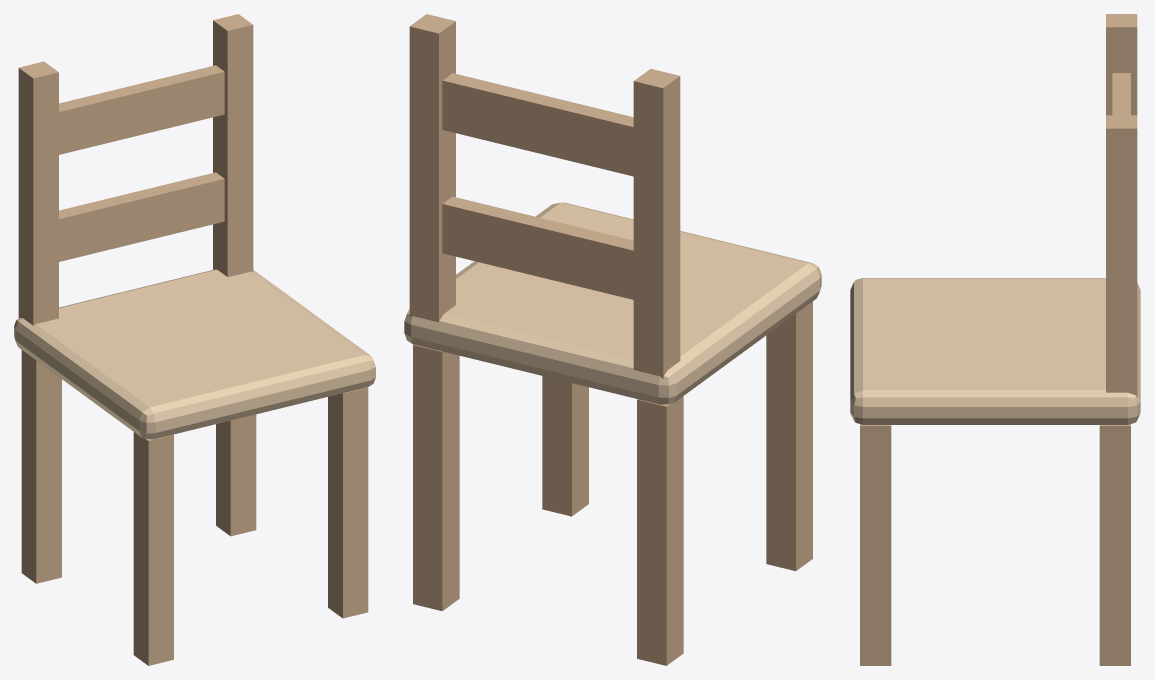
The model's file is cadeira_simples.glb.
3 views of the same model, side by side, from view 1: azimuth 30°, elevation 25°; view 2: azimuth 150°, elevation 25°; view 3: azimuth 270°, elevation 25° (orthographic). The views are drawn at different scales.
Parts seen in each view (by area): view 1: cadeira_simples; view 2: cadeira_simples; view 3: cadeira_simples.
Part boxes in pixels (x1,y1,x2,y2): cadeira_simples: [14, 14, 375, 665]; cadeira_simples: [404, 14, 821, 665]; cadeira_simples: [850, 14, 1140, 665].
Size of the model in its own units: 0.46 by 0.94 by 0.46.
